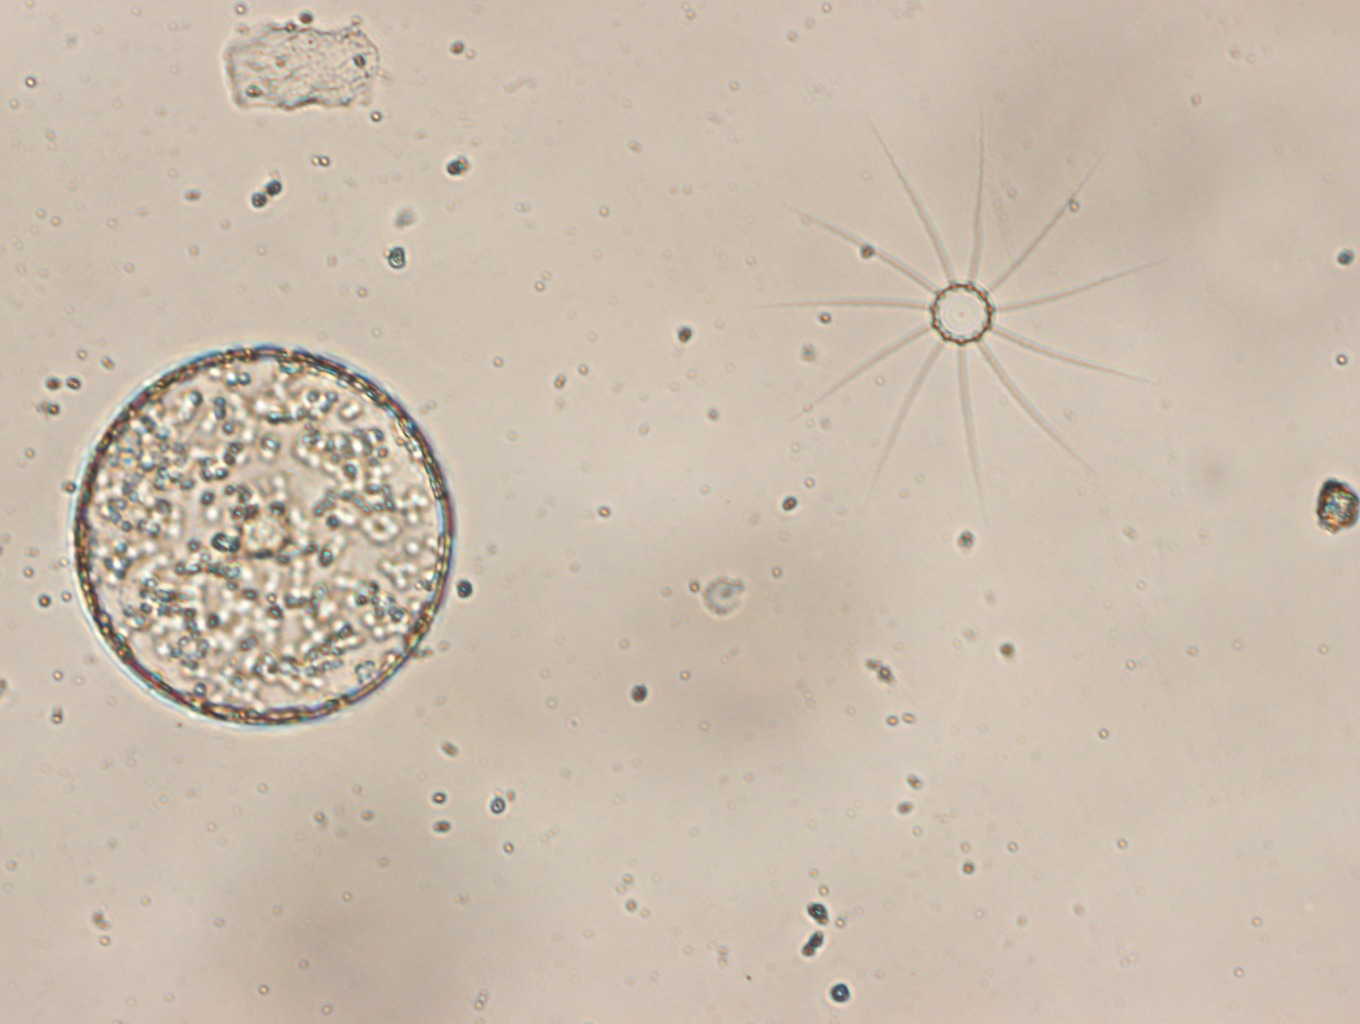coscinodiscus: (70, 345, 452, 727)
